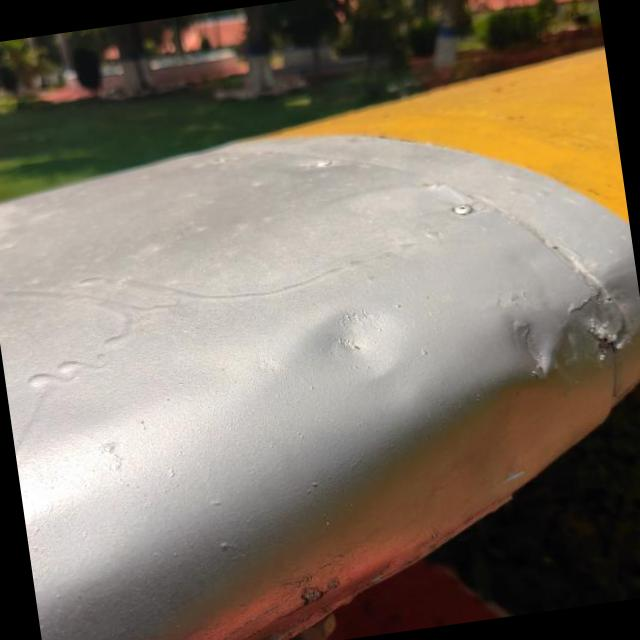Dent: (287, 279, 430, 418), (506, 292, 602, 387)
